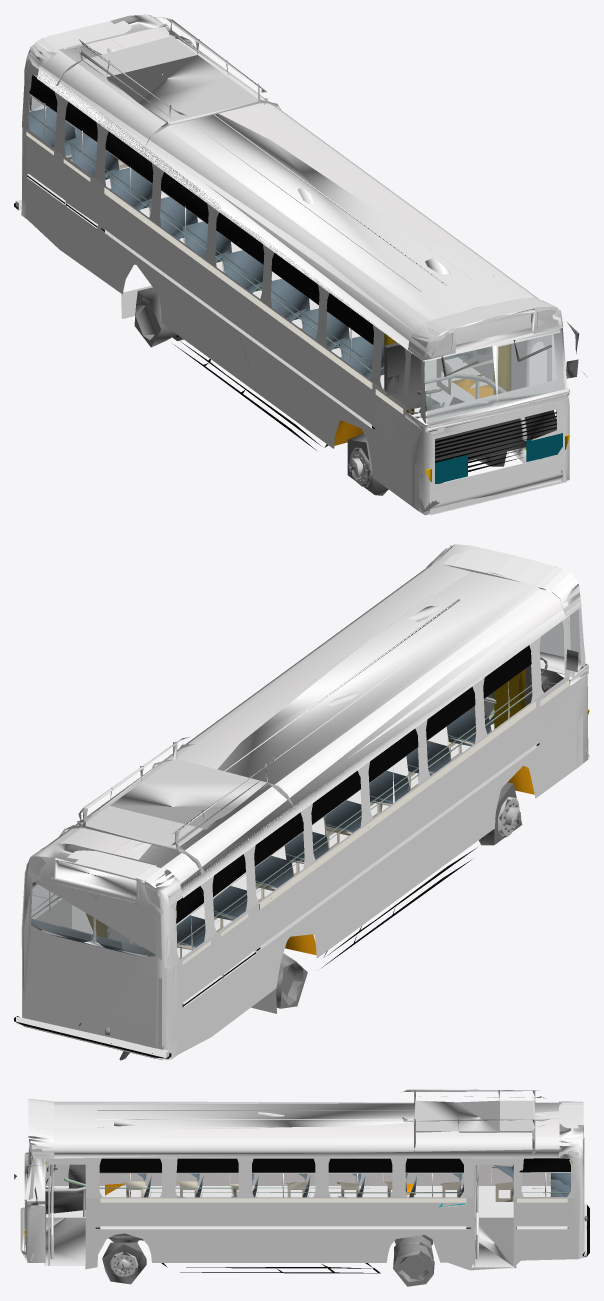
File: b_viking_lo.glb
The picture shows the model from 3 angles, top to bottom: view 1: azimuth 30°, elevation 25°; view 2: azimuth 150°, elevation 25°; view 3: azimuth 270°, elevation 25°; orthographic projection. The views are drawn at different scales.
Visible parts, largest first — view 1: Object_6, Object_25, Object_43, Object_17, Object_8, Object_78, Object_3, Object_57, Object_4, Object_64, Object_19, Object_60 (+6 smaller); view 2: Object_6, Object_25, Object_17, Object_43, Object_8, Object_78, Object_18, Object_57, Object_60, Object_77, Object_35, Object_19 (+4 smaller); view 3: Object_6, Object_25, Object_8, Object_17, Object_57, Object_42, Object_20, Object_43, Object_11, Object_44, Object_3, Object_10 (+2 smaller).
Part boxes in pixels (x1,y1,x2,y2): Object_6: (21,14,569,515); Object_25: (22,16,569,514); Object_43: (28,107,461,378); Object_17: (56,17,280,144); Object_8: (14,75,556,471); Object_78: (29,74,565,423); Object_3: (435,397,556,460); Object_57: (26,132,403,414); Object_4: (384,342,439,431); Object_64: (435,433,562,484); Object_19: (134,287,176,347); Object_60: (34,75,371,428); Object_6: (21,544,588,1059); Object_25: (31,546,587,1049); Object_17: (59,736,293,876); Object_43: (31,711,491,955); Object_8: (14,645,570,1058); Object_78: (25,609,580,956); Object_18: (36,882,162,954); Object_57: (182,680,568,964); Object_60: (33,715,536,949); Object_77: (86,669,525,937); Object_35: (16,1016,169,1060); Object_19: (276,953,307,1008); Object_6: (24,1098,584,1270); Object_25: (27,1101,582,1270); Object_8: (26,1158,589,1273); Object_17: (398,1089,551,1153); Object_57: (100,1198,567,1202); Object_42: (122,1166,550,1201); Object_20: (393,1235,434,1286); Object_43: (137,1165,570,1197); Object_11: (102,1233,146,1284); Object_44: (99,1187,569,1193); Object_3: (45,1177,85,1233); Object_10: (109,1252,138,1277).
Size of the model in its own units: 3.13 by 3.86 by 12.61.
